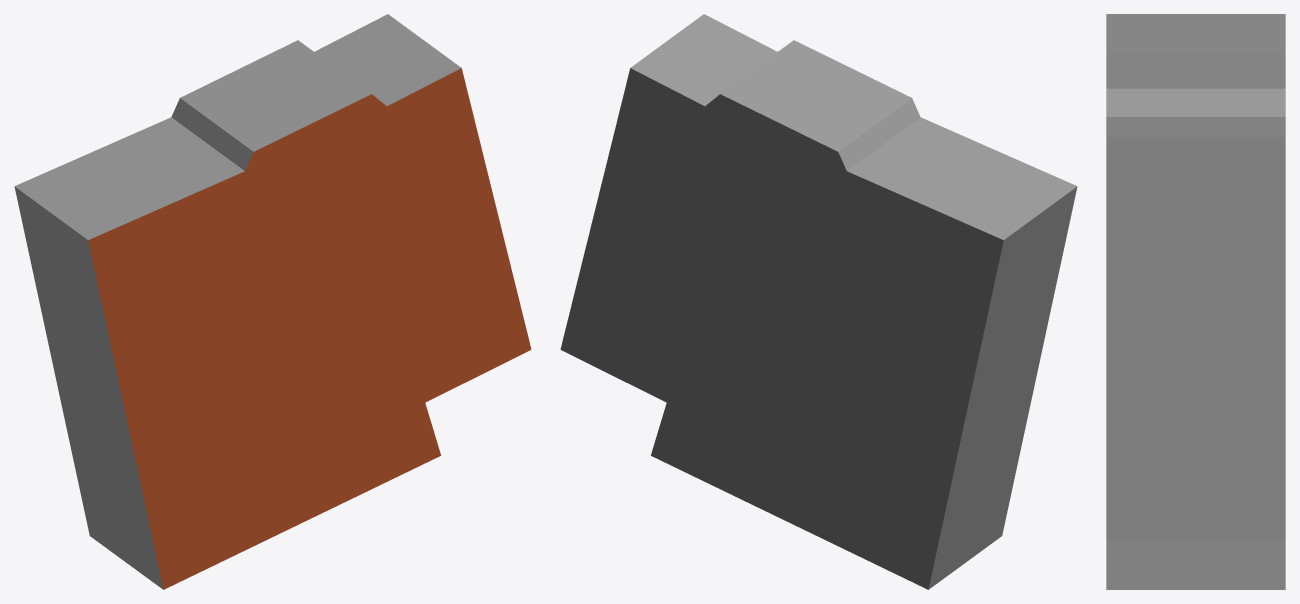
File: construction_3656_assumed_A_Casa_h6m.obj
The picture shows the model from 3 angles, left to right: view 1: azimuth 30°, elevation 25°; view 2: azimuth 150°, elevation 25°; view 3: azimuth 270°, elevation 25°; orthographic projection. The views are drawn at different scales.
Visible parts, largest first — view 1: construction_3656_assumed_A_Casa; view 2: construction_3656_assumed_A_Casa; view 3: construction_3656_assumed_A_Casa.
Boxes of the visible parts, bbox=[...] form: construction_3656_assumed_A_Casa: bbox=[14, 14, 531, 589]; construction_3656_assumed_A_Casa: bbox=[560, 14, 1077, 589]; construction_3656_assumed_A_Casa: bbox=[1106, 14, 1285, 589].
Bounding box in the file's own units: 20.82 × 20.16 × 6.
